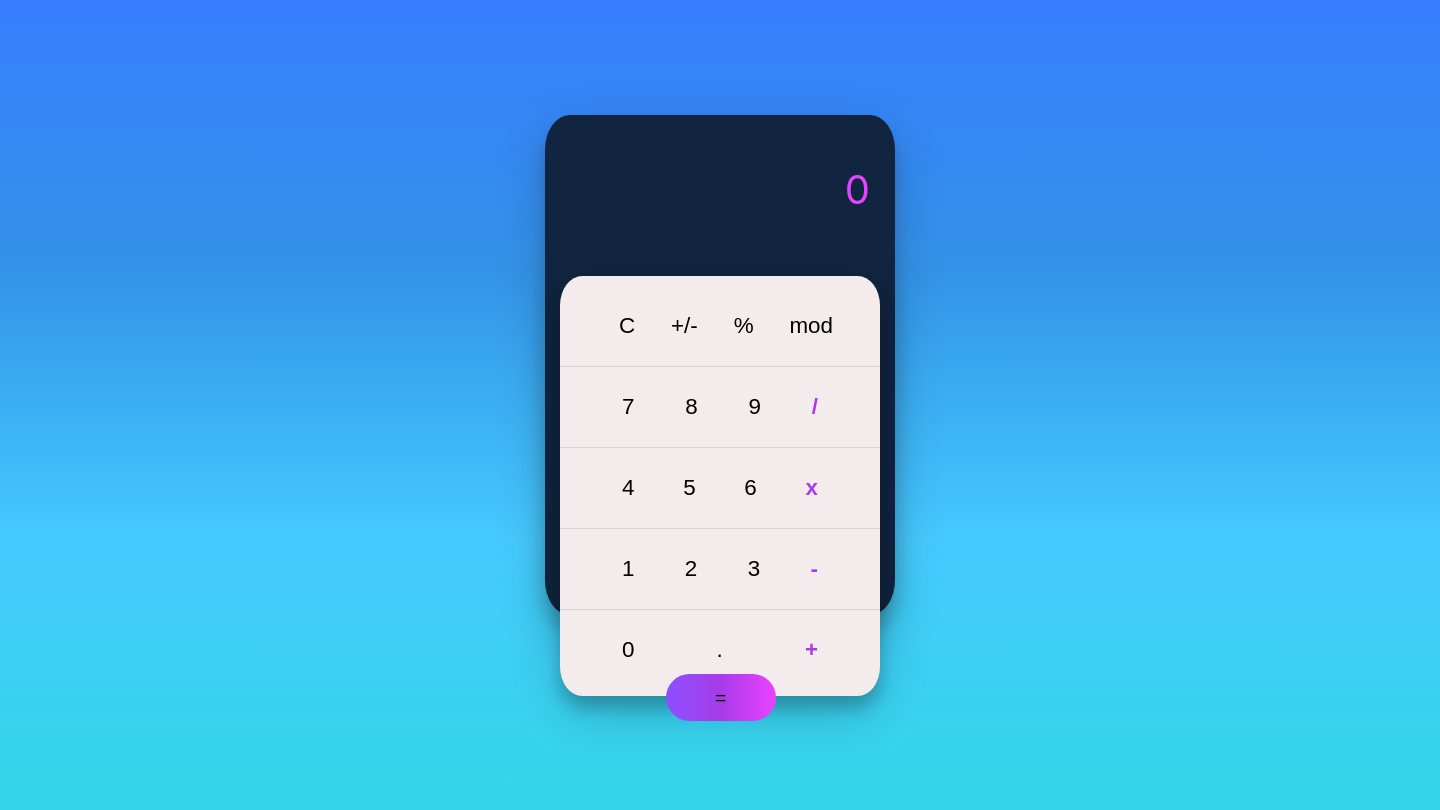
Scenario: change value
Click the button "8": (692, 407) [679, 393, 704, 421]
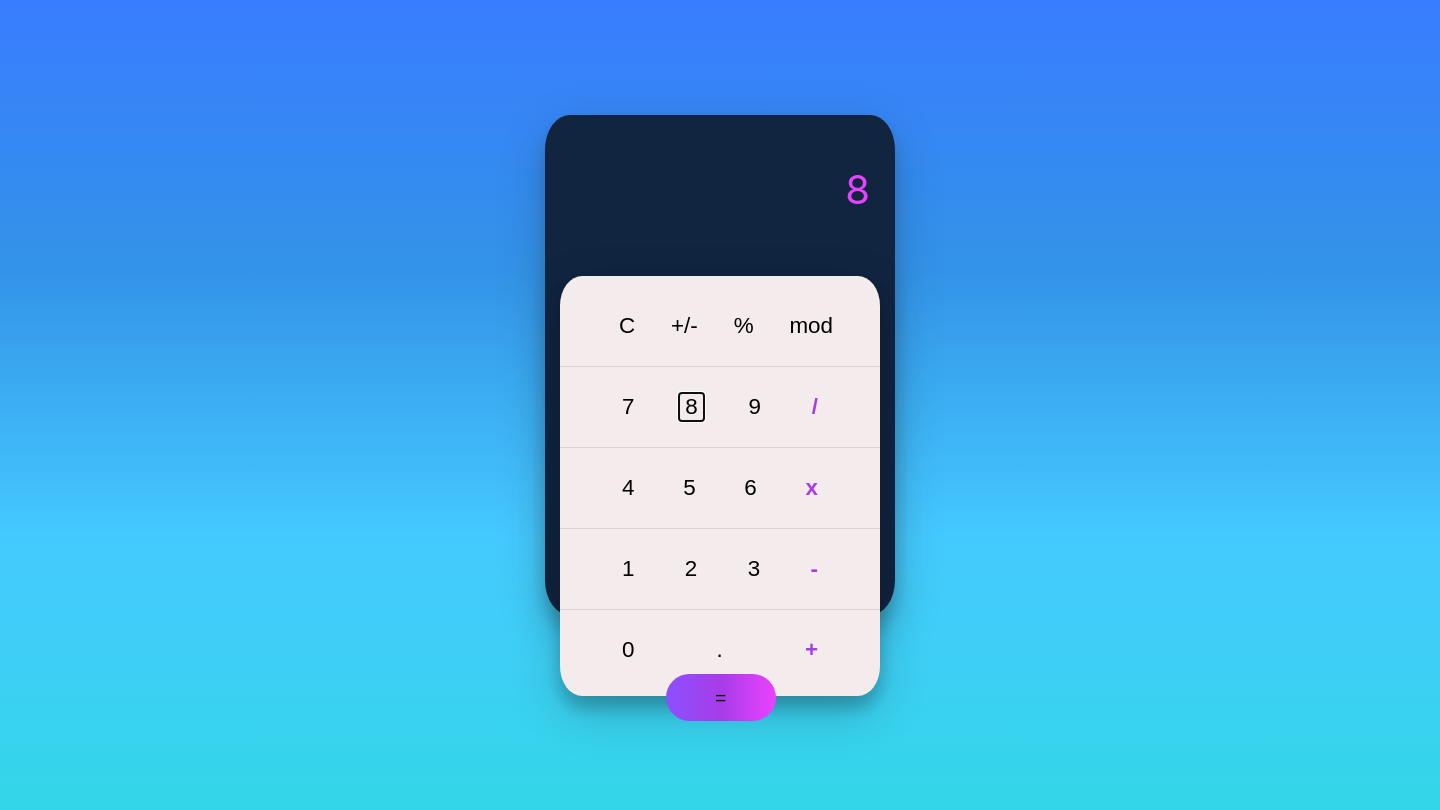
Click the button "+/-": (684, 326) [665, 312, 704, 340]
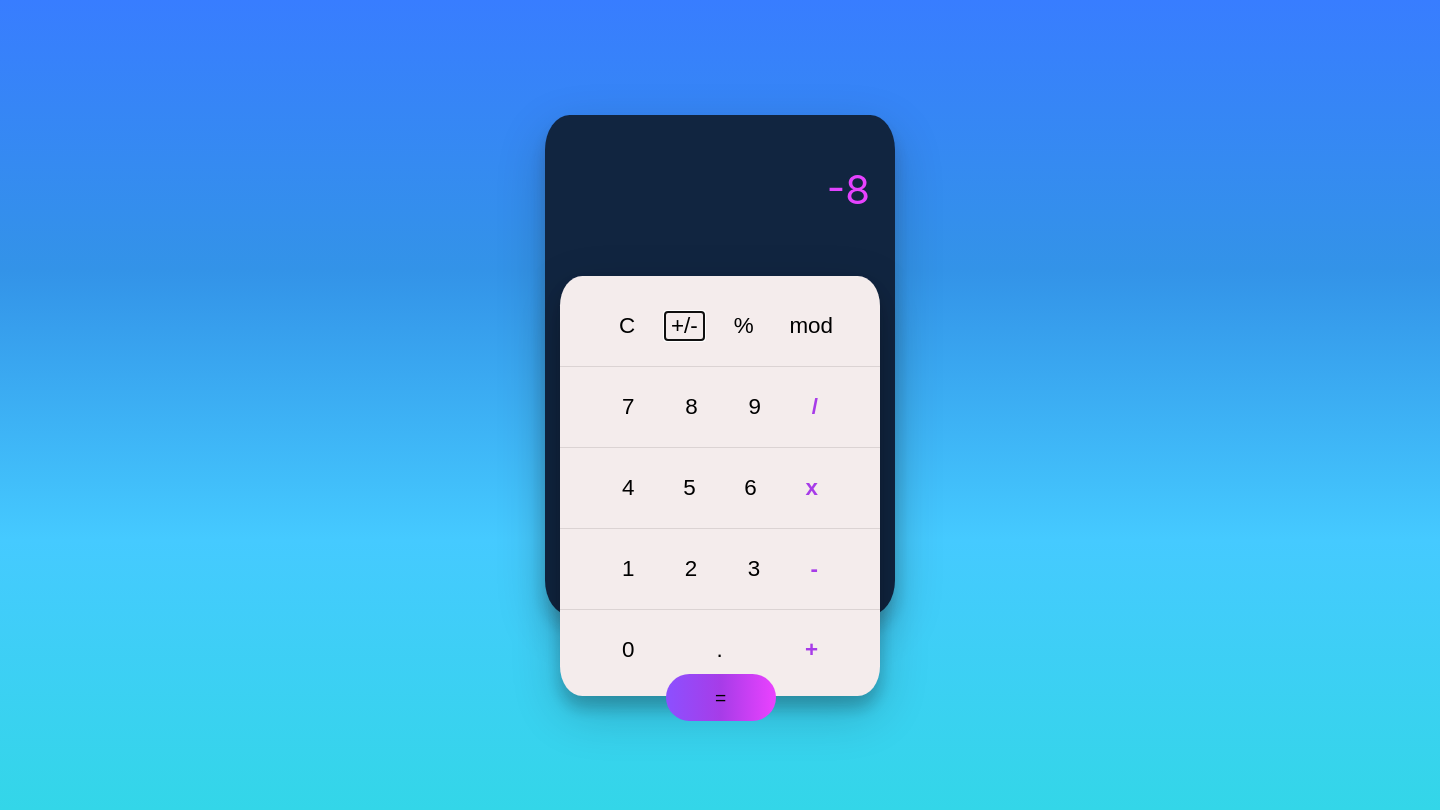
Result: the label with test id "resultCalculation" reads "-8" at [827, 164, 870, 214]
